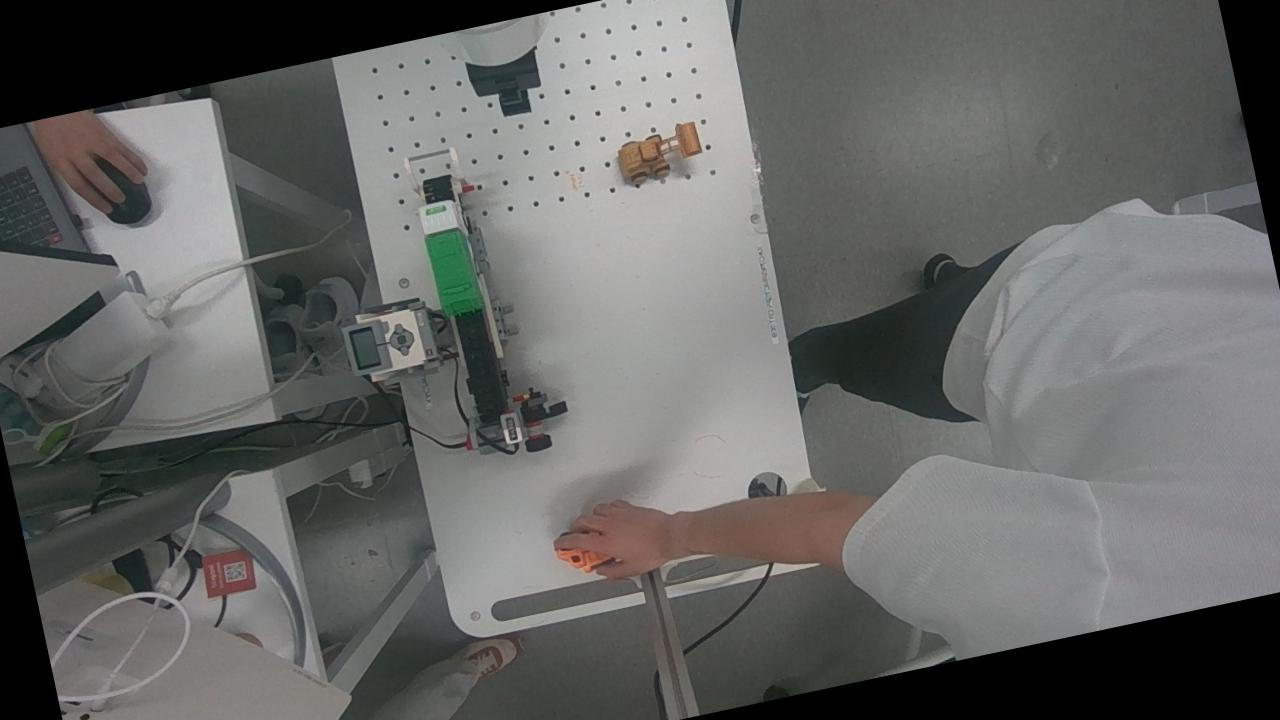green_car: (409, 193, 488, 323)
yellow_car: (616, 111, 712, 199), (552, 521, 618, 574)
